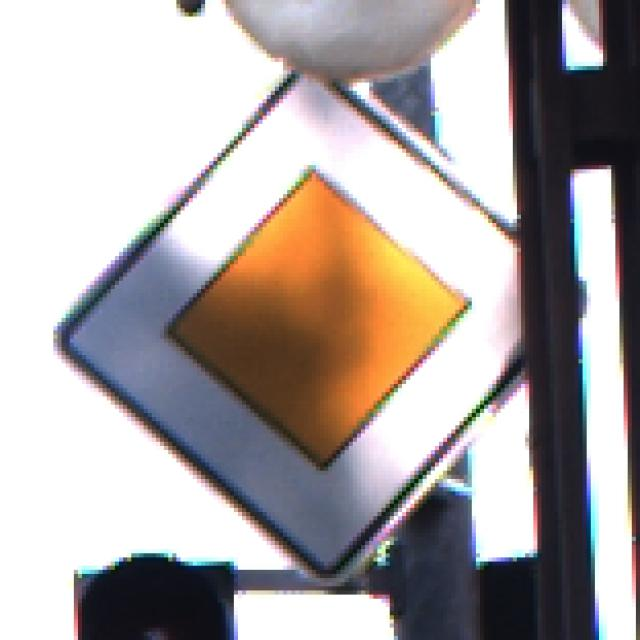Main Road: (54, 59, 588, 587)
